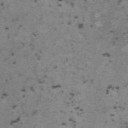oxide scale of temperature system: (1, 18, 88, 128), (59, 2, 116, 58), (106, 84, 126, 111), (118, 0, 122, 5)
